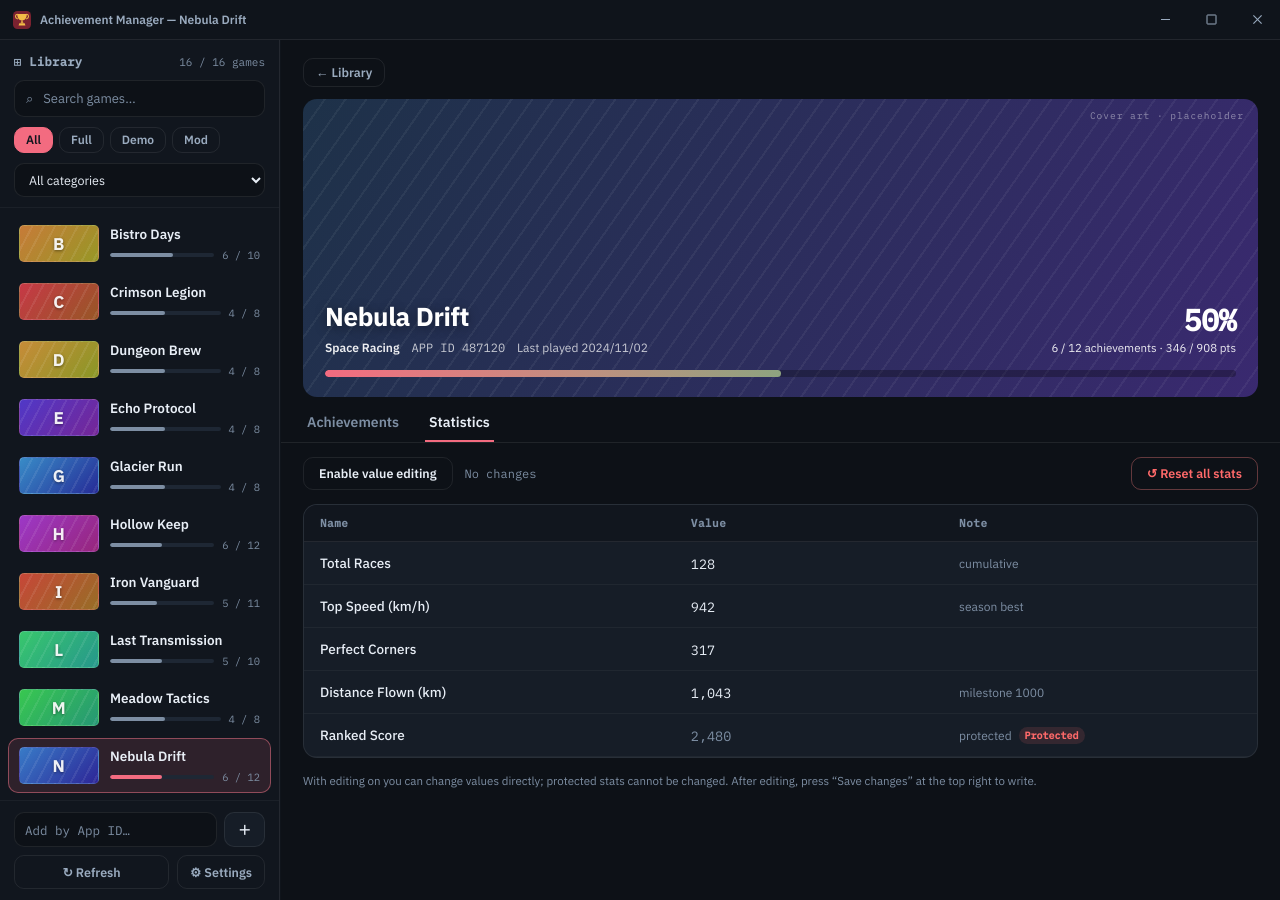
it: App UI integration › enables stat editing on the statistics tab
Check: the text "Total Races" is shown, box [320,554,391,572]
What coordinates should you click on to do the following:
click the button "Enable value editing"
I would click on:
 (378, 474)
Its box is [303,457,452,490].
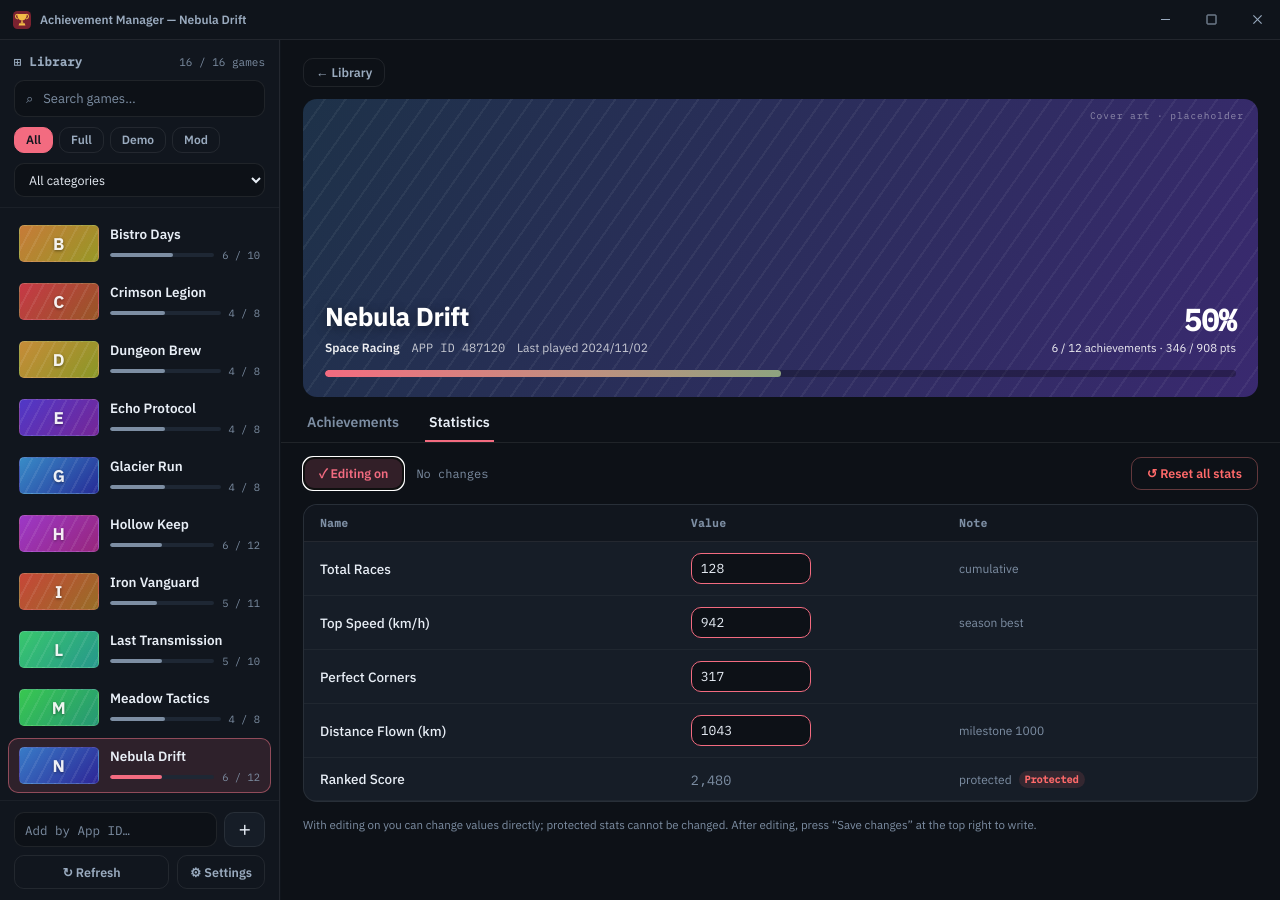
Check: the field named "Total Races" is shown, box [691,553,811,584]
